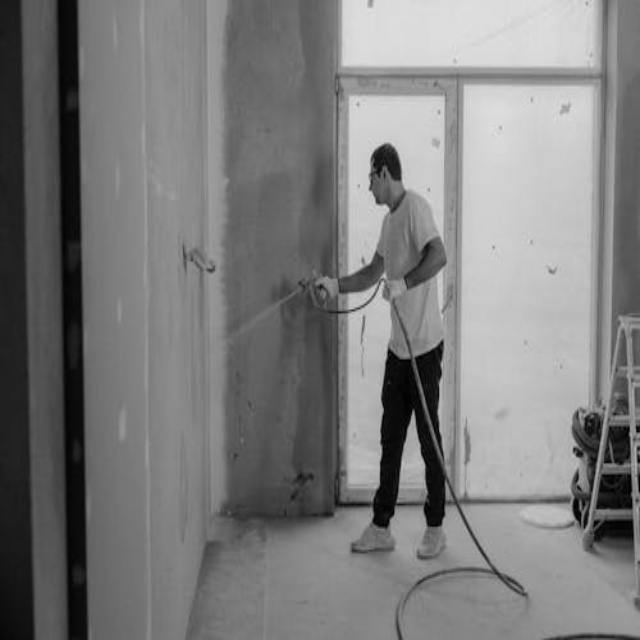Gafas: (369, 168, 384, 183)
Guantes: (313, 275, 339, 303), (383, 277, 408, 302)
Sin_mascara: (369, 183, 380, 204)
